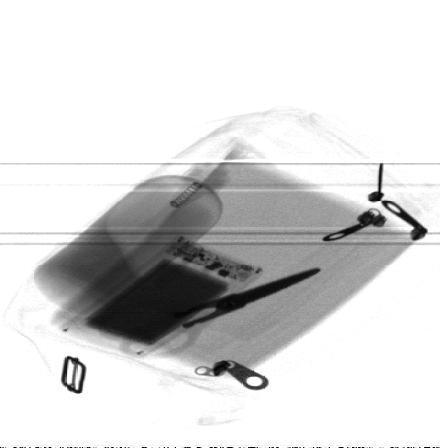Powerbank: (59, 237, 266, 364)
Scissors: (77, 264, 327, 363)
